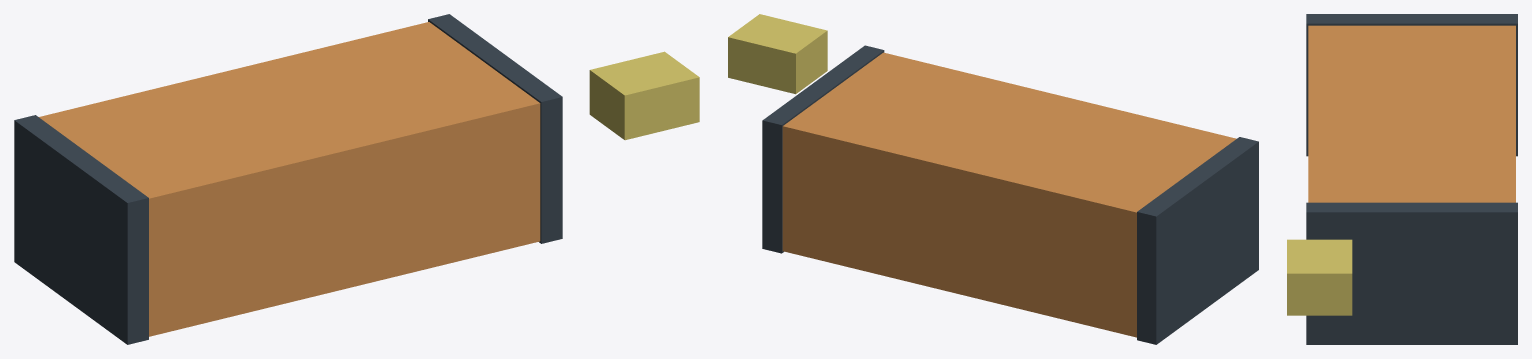
File: lipo_2200_3s.glb
3 views of the same model, side by side, from view 1: azimuth 30°, elevation 25°; view 2: azimuth 150°, elevation 25°; view 3: azimuth 270°, elevation 25° (orthographic). The views are drawn at different scales.
Parts seen in each view (by area): view 1: lipo_body, cap_L, xt60, cap_R; view 2: lipo_body, cap_L, xt60, cap_R; view 3: lipo_body, cap_R, xt60, cap_L.
Boxes of the visible parts, x1,y1,x2,y2 form: lipo_body: (39,22,540,336); cap_L: (14,115,148,344); xt60: (589,51,699,140); cap_R: (428,14,562,243); lipo_body: (782,52,1236,337); cap_L: (1137,137,1258,344); xt60: (728,14,827,94); cap_R: (762,45,884,253); lipo_body: (1308,25,1515,202); cap_R: (1306,202,1517,344); xt60: (1287,239,1352,315); cap_L: (1306,14,1517,156).
Size of the model in its own units: 3.15 by 0.76 by 1.2.
